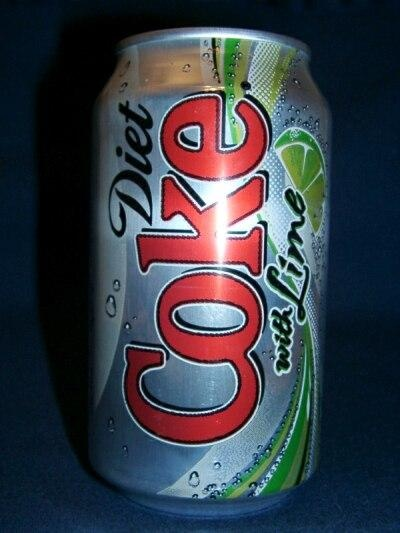grozi_54: (87, 24, 334, 521)
